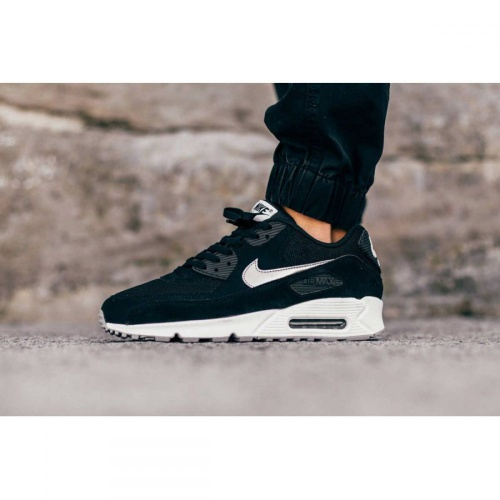nike: (238, 250, 353, 303)
